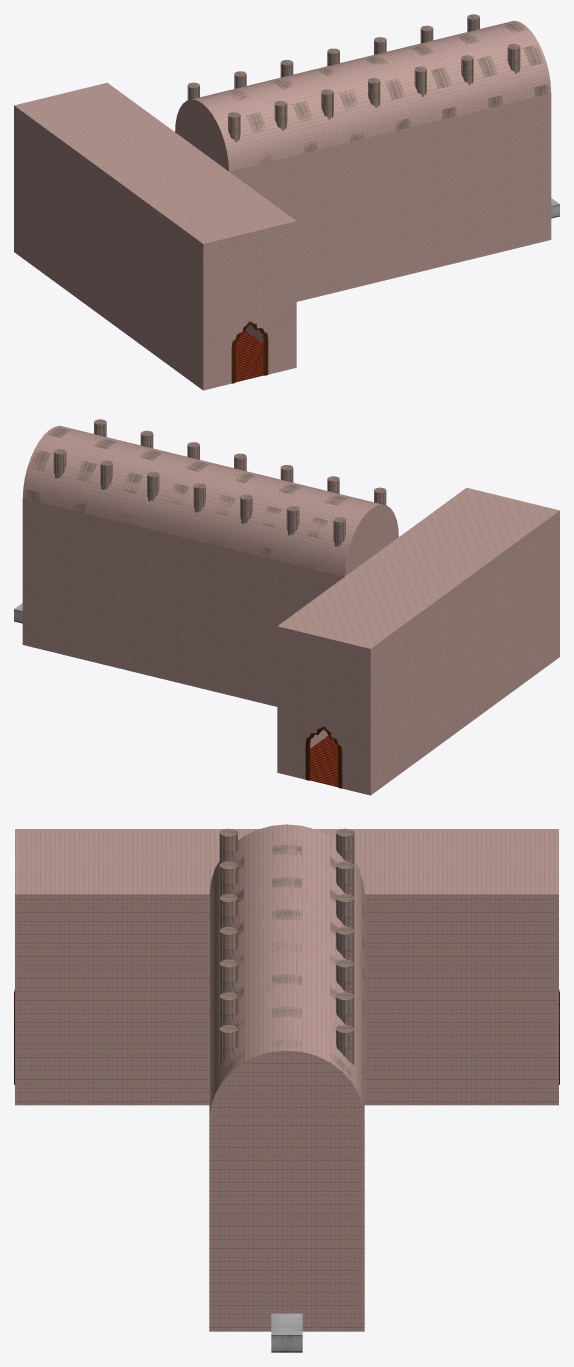
File: TEST_TRAUMA_LOOP.glb
3 views of the same model, one above another, from view 1: azimuth 30°, elevation 25°; view 2: azimuth 150°, elevation 25°; view 3: azimuth 270°, elevation 25° (orthographic). The views are drawn at different scales.
Parts seen in each view (by area): view 1: CORRIDOR-COL, WALLS, ARCH_CEELING-COL, ARCH_OPENING-COL.001-COL, AROS-COL, LEFT_PILAR-COL, RIGHT_PILAR-COL; view 2: CORRIDOR-COL, WALLS, ARCH_CEELING-COL, ARCH_OPENING-COL.002-COL, AROS-COL, RIGHT_PILAR-COL, LEFT_PILAR-COL; view 3: CORRIDOR-COL, ARCH_CEELING-COL, WALLS, RIGHT_PILAR-COL, LEFT_PILAR-COL, AROS-COL, ENTRANCE-COL, ARCH_OPENING-COL.001-COL, ARCH_OPENING-COL.002-COL.
Boxes of the visible parts, x1,y1,x2,y2 form: CORRIDOR-COL: [14, 83, 295, 389]; WALLS: [229, 93, 551, 301]; ARCH_CEELING-COL: [175, 21, 551, 171]; ARCH_OPENING-COL.001-COL: [203, 221, 296, 390]; AROS-COL: [227, 22, 548, 164]; LEFT_PILAR-COL: [228, 44, 520, 142]; RIGHT_PILAR-COL: [187, 14, 479, 99]; CORRIDOR-COL: [278, 488, 559, 794]; WALLS: [22, 498, 344, 706]; ARCH_CEELING-COL: [22, 426, 398, 576]; ARCH_OPENING-COL.002-COL: [277, 626, 371, 795]; AROS-COL: [25, 427, 347, 569]; RIGHT_PILAR-COL: [53, 449, 345, 546]; LEFT_PILAR-COL: [94, 419, 386, 504]; CORRIDOR-COL: [16, 829, 557, 1105]; ARCH_CEELING-COL: [209, 824, 364, 1120]; WALLS: [209, 894, 364, 1331]; RIGHT_PILAR-COL: [336, 828, 354, 1065]; LEFT_PILAR-COL: [219, 828, 237, 1064]; AROS-COL: [209, 844, 364, 1114]; ENTRANCE-COL: [271, 1313, 302, 1352]; ARCH_OPENING-COL.001-COL: [14, 829, 16, 1105]; ARCH_OPENING-COL.002-COL: [557, 829, 559, 1105].
Bounding box in the file's own units: 153 × 64.08 × 113.
Materials: 8 (8 with a texture image).
